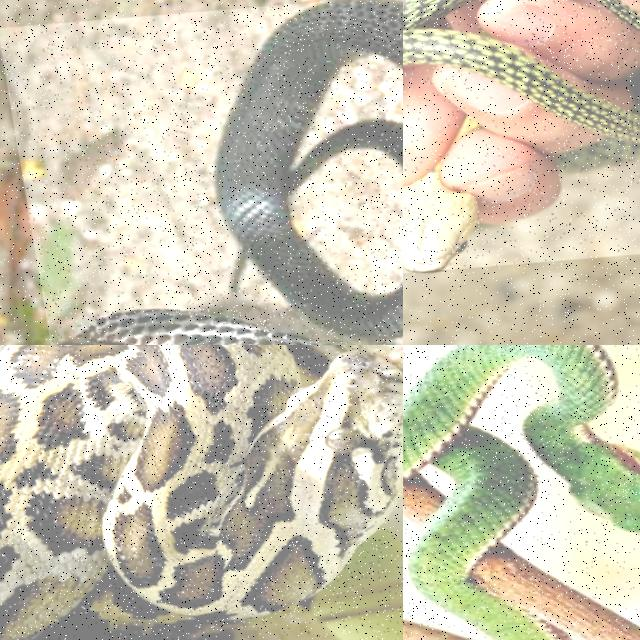Chrysopelea ornata: (403, 0, 639, 170)
Naja kaouthia: (216, 0, 402, 338)
Python bivittatus: (0, 345, 402, 639)
Trimeresurus: (403, 345, 639, 639)
snake: (0, 345, 402, 639), (403, 345, 639, 639), (216, 0, 402, 338), (403, 0, 639, 170)
